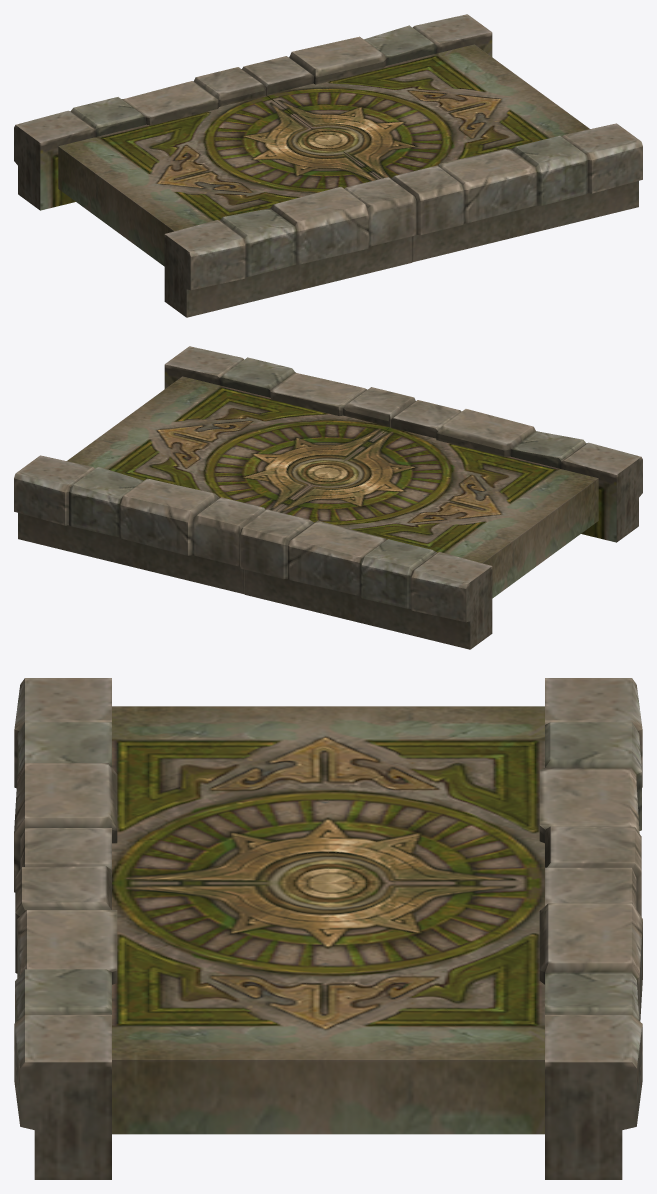
Rendered from f_1011_door.FBX.
3 renders of one model, top to bottom at view 1: azimuth 30°, elevation 25°; view 2: azimuth 150°, elevation 25°; view 3: azimuth 270°, elevation 25°, orthographic. The views are drawn at different scales.
Parts seen in each view (by area): view 1: d_1011_floor01, d_1011_floor022; view 2: d_1011_floor01, d_1011_floor022; view 3: d_1011_floor022, d_1011_floor01.
Boxes of the visible parts, <box> form: d_1011_floor01: <box>14,67,416,317</box>; d_1011_floor022: <box>242,14,642,261</box>; d_1011_floor01: <box>240,400,642,649</box>; d_1011_floor022: <box>14,346,415,593</box>; d_1011_floor022: <box>14,860,642,1179</box>; d_1011_floor01: <box>14,678,642,916</box>.
Size of the model in its own units: 979 by 163 by 676.
